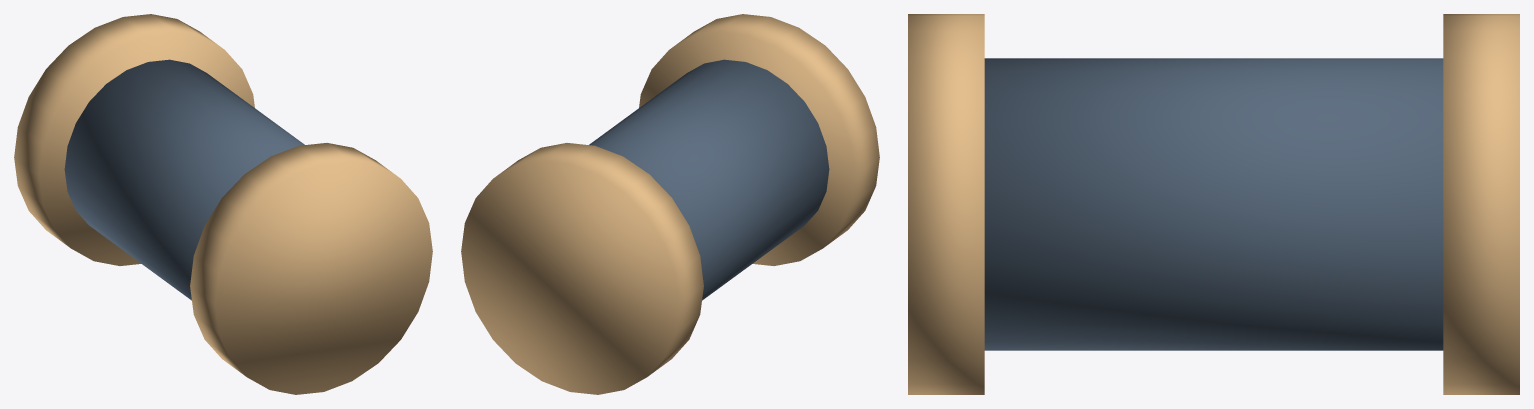
Rendered from hinge.glb.
3 renders of one model, left to right at view 1: azimuth 30°, elevation 25°; view 2: azimuth 150°, elevation 25°; view 3: azimuth 270°, elevation 25°, orthographic. The views are drawn at different scales.
Parts seen in each view (by area): view 1: Fixed_Tangential_Hinge; view 2: Fixed_Tangential_Hinge; view 3: Fixed_Tangential_Hinge.
Part boxes in pixels (box(x1,y1,x2,y2)): Fixed_Tangential_Hinge: box(14, 14, 432, 394); Fixed_Tangential_Hinge: box(461, 14, 879, 394); Fixed_Tangential_Hinge: box(908, 14, 1519, 394).
Bounding box in the file's own units: 0.3 × 0.3 × 0.48.
